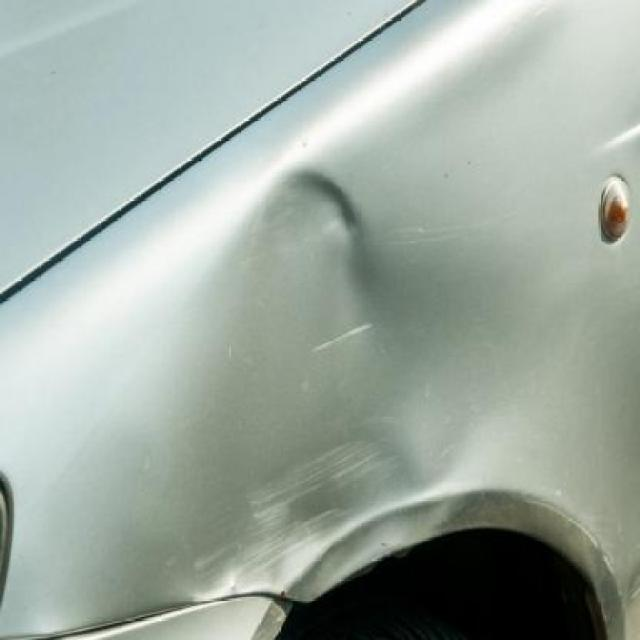dent: (160, 163, 498, 596)
